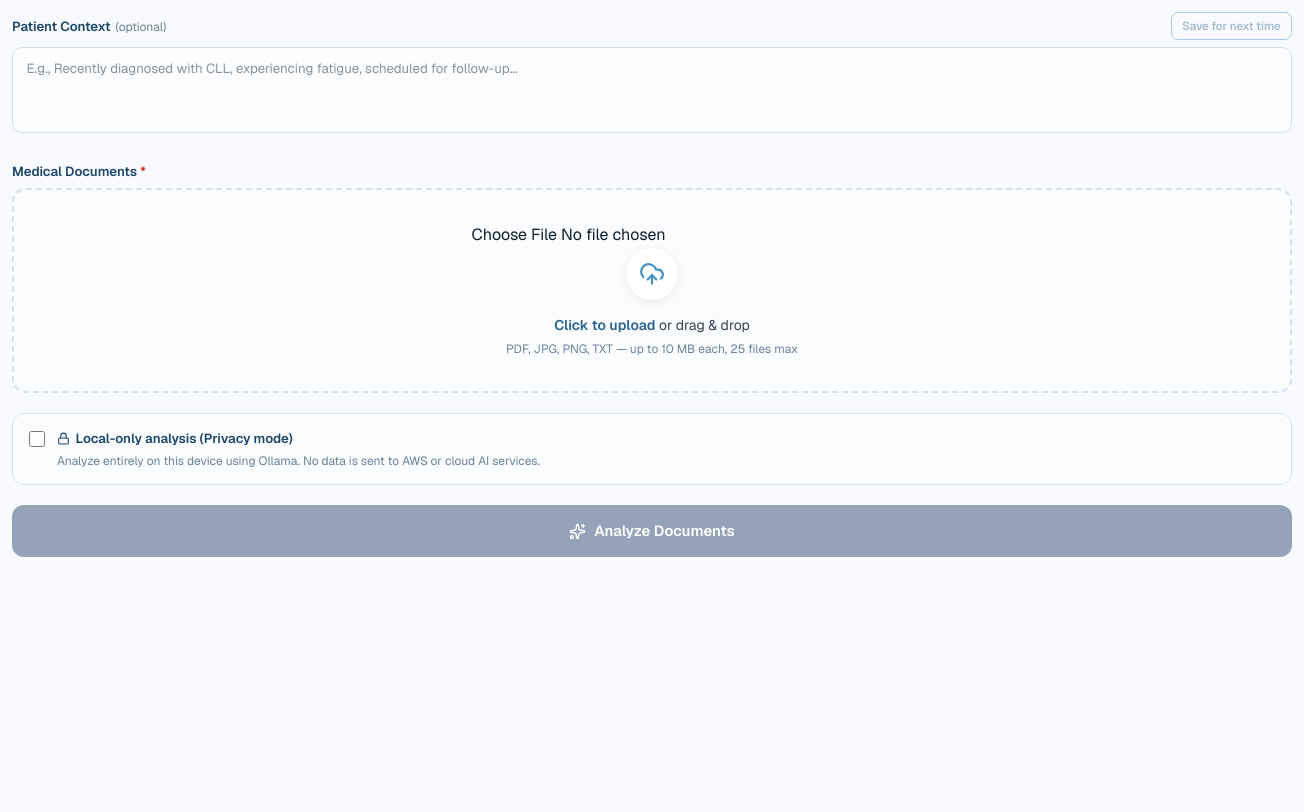
Scenario: FileUpload › shows Saved confirmation after successfully saving context
Type "new context" into the text box labelled "Patient Context(optional)".
click(652, 90); type("new context")  # box [12,47,1292,133]
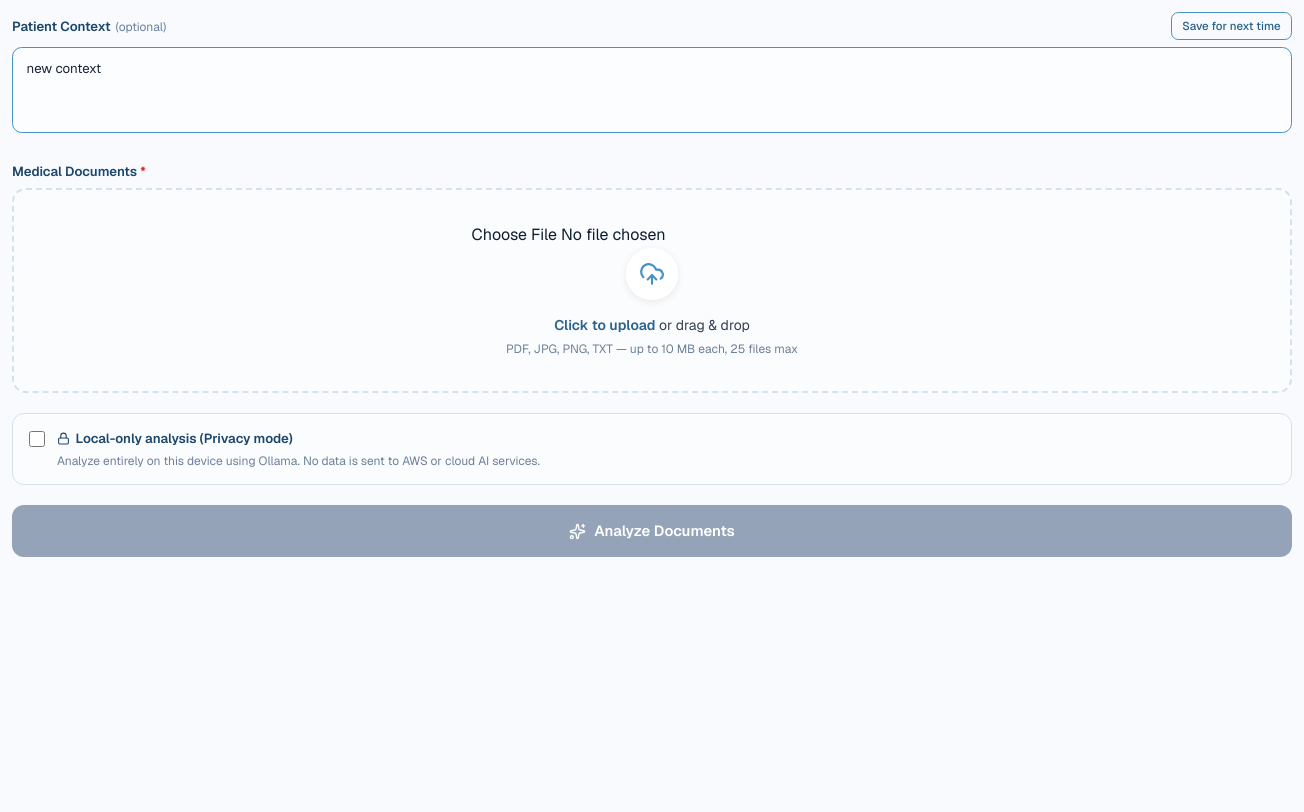
Click the button "Save for next time".
click(1231, 26)  # box [1171,12,1292,40]
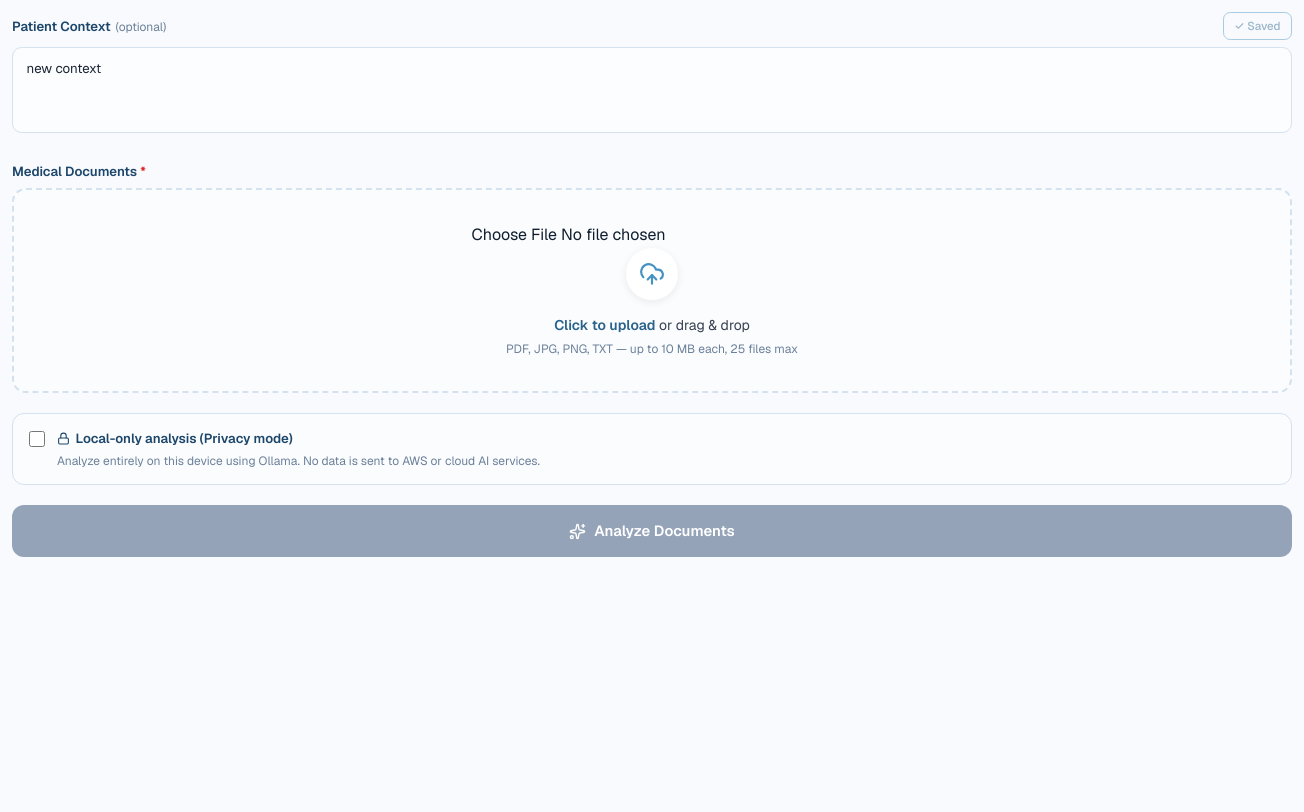
Now the button "✓ Saved" is shown, box [1223,12,1292,40]
